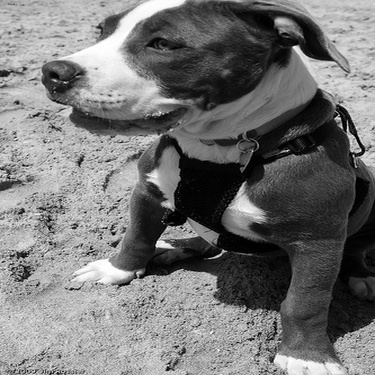dog: (33, 1, 372, 372)
